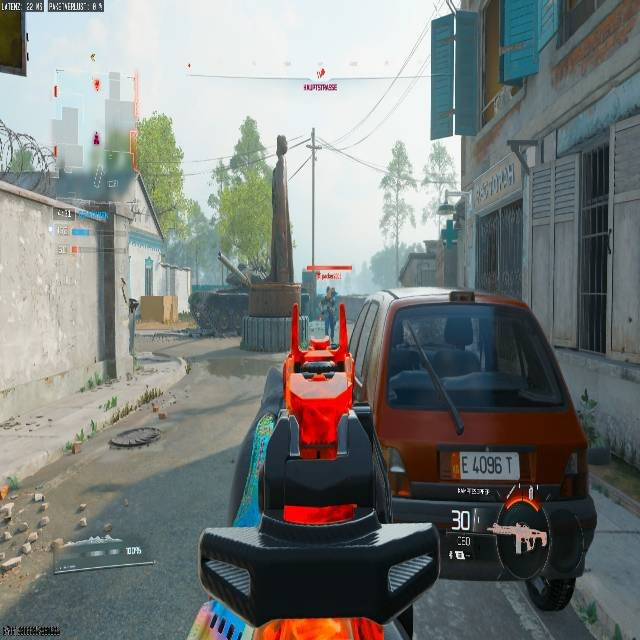head: (325, 279, 336, 294), (327, 286, 336, 297)
player: (313, 281, 343, 343), (321, 285, 337, 320), (128, 295, 141, 325)
